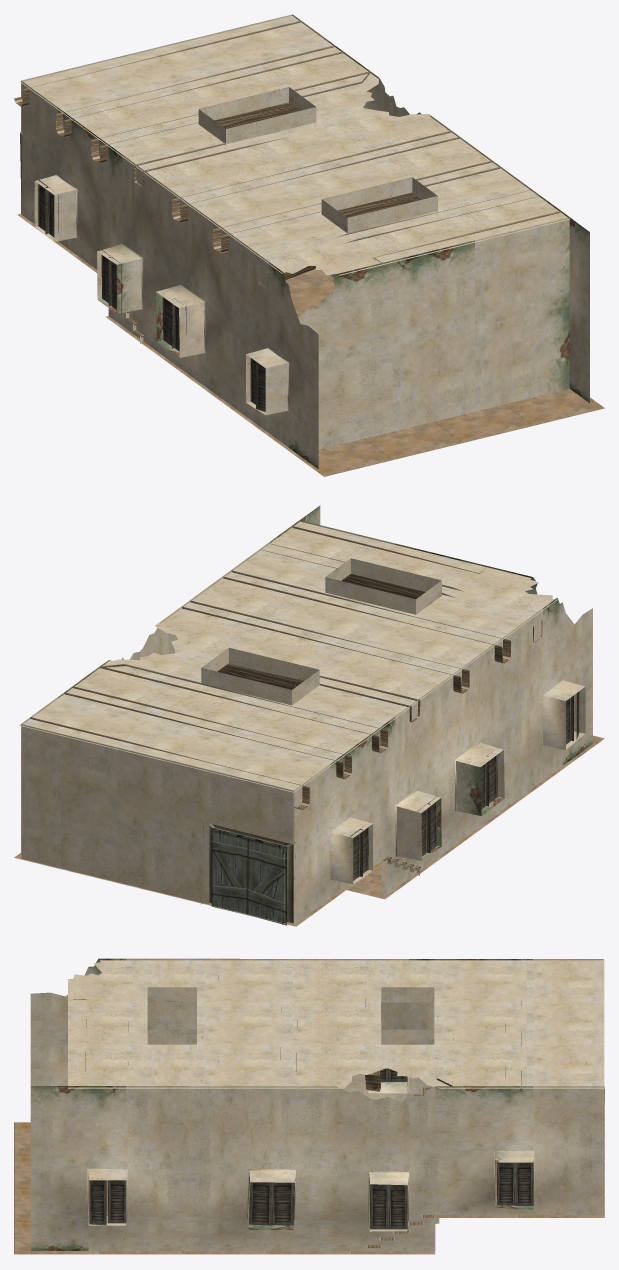
Rendered from pir_m_int_spn_store_destroyed.fbx.
The picture shows the model from 3 angles, top to bottom: view 1: azimuth 30°, elevation 25°; view 2: azimuth 150°, elevation 25°; view 3: azimuth 270°, elevation 25°; orthographic projection. The views are drawn at different scales.
Parts seen in each view (by area): view 1: Ceiling, Wall5, wall_02, floor_main, Wall10, beam_2, beam_5, beam_4, beam_1, beam_6, beam_8, beam_3; view 2: Ceiling, Wall5, wall_03, door_1_left, door_1_right, Wall10, floor_main, beam_3, beam_5, beam_2, beam_4, beam_1 (+5 smaller); view 3: Wall10, Ceiling, Wall5, floor_main, Shutter2, Shutter16, Shutter6, Shutter3, Shutter11, Shutter15, Shutter12, Shutter4 (+1 smaller).
Part boxes in pixels (box(x1,y1,x2,y2)): Ceiling: box(20, 15, 572, 275); Wall5: box(21, 80, 318, 469); wall_02: box(298, 217, 569, 449); floor_main: box(105, 269, 604, 476); Wall10: box(292, 14, 589, 403); beam_2: box(91, 71, 370, 163); beam_5: box(213, 160, 500, 253); beam_4: box(172, 130, 459, 223); beam_1: box(56, 45, 343, 137); beam_6: box(258, 190, 538, 287); beam_8: box(14, 20, 301, 107); beam_3: box(134, 131, 290, 186); Ceiling: box(19, 520, 557, 792); Wall5: box(293, 598, 592, 926); wall_03: box(21, 724, 294, 904); door_1_left: box(247, 838, 284, 924); door_1_right: box(211, 829, 248, 914); Wall10: box(21, 505, 320, 858); floor_main: box(347, 735, 604, 899); beam_3: box(217, 663, 420, 722); beam_5: box(223, 570, 510, 663); beam_2: box(100, 664, 387, 753); beam_4: box(182, 600, 469, 693); beam_1: box(64, 686, 351, 779); Wall10: box(30, 1086, 603, 1251); Ceiling: box(68, 960, 604, 1088); Wall5: box(30, 958, 603, 1101); floor_main: box(14, 1122, 435, 1254); Shutter2: box(272, 1182, 294, 1225); Shutter16: box(249, 1182, 271, 1225); Shutter6: box(388, 1184, 407, 1229); Shutter3: box(107, 1180, 126, 1223); Shutter11: box(496, 1162, 515, 1205); Shutter15: box(370, 1184, 388, 1229); Shutter12: box(515, 1161, 533, 1205); Shutter4: box(89, 1178, 106, 1225).
Size of the model in its own units: 4755 by 2639 by 7844.
3 materials, 3 textured.
